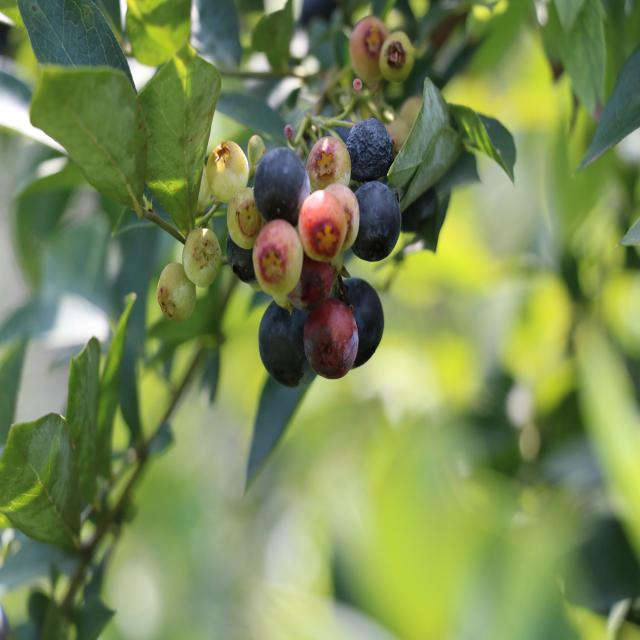blueberry: (253, 296, 314, 395), (343, 177, 407, 267), (332, 272, 390, 368), (250, 143, 310, 227), (342, 115, 400, 188), (220, 226, 268, 290)
blueberry-halfripe: (304, 295, 355, 381), (255, 221, 302, 295), (300, 190, 342, 264), (346, 13, 388, 77)
blueberry-unripe: (206, 135, 250, 199), (154, 262, 197, 322), (182, 227, 222, 288), (308, 135, 350, 193), (226, 183, 261, 247), (381, 32, 409, 77)
